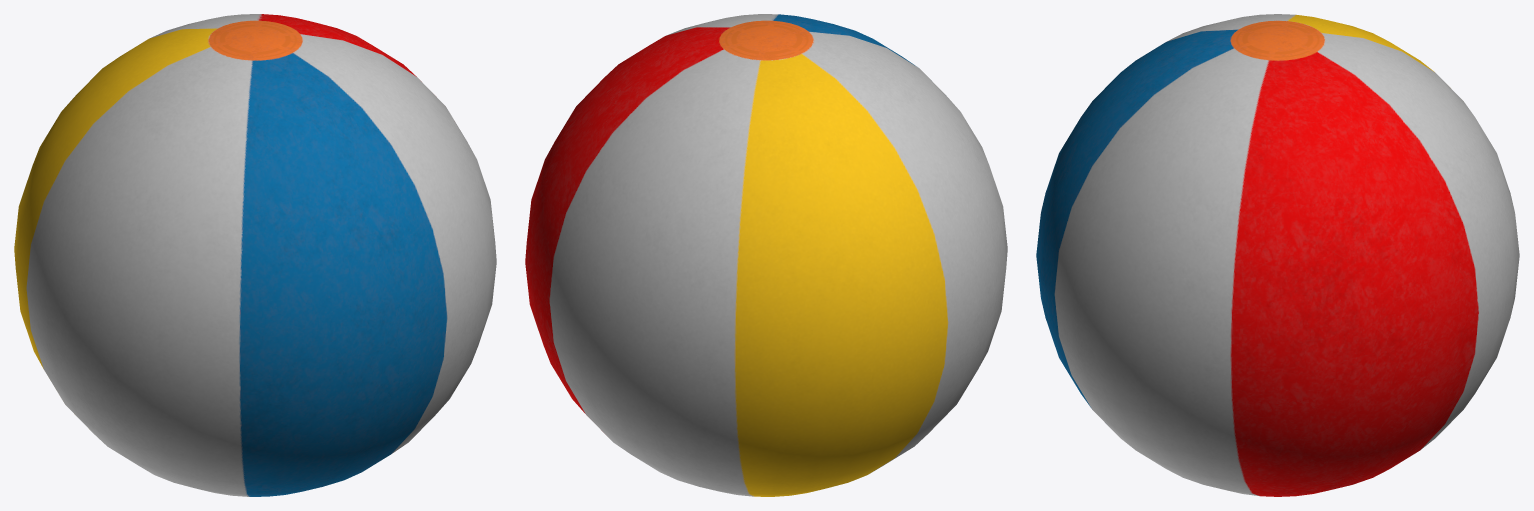
The model's file is beach_ball.obj.
3 views of the same model, side by side, from view 1: azimuth 30°, elevation 25°; view 2: azimuth 150°, elevation 25°; view 3: azimuth 270°, elevation 25° (orthographic).
Parts seen in each view (by area): view 1: beach_ball; view 2: beach_ball; view 3: beach_ball.
Boxes of the visible parts, x1,y1,x2,y2 form: beach_ball: (14, 14, 496, 496); beach_ball: (525, 14, 1007, 496); beach_ball: (1036, 14, 1519, 496).
Size of the model in its own units: 27.29 by 27.22 by 27.29.
Materials: 1 (1 with a texture image).
